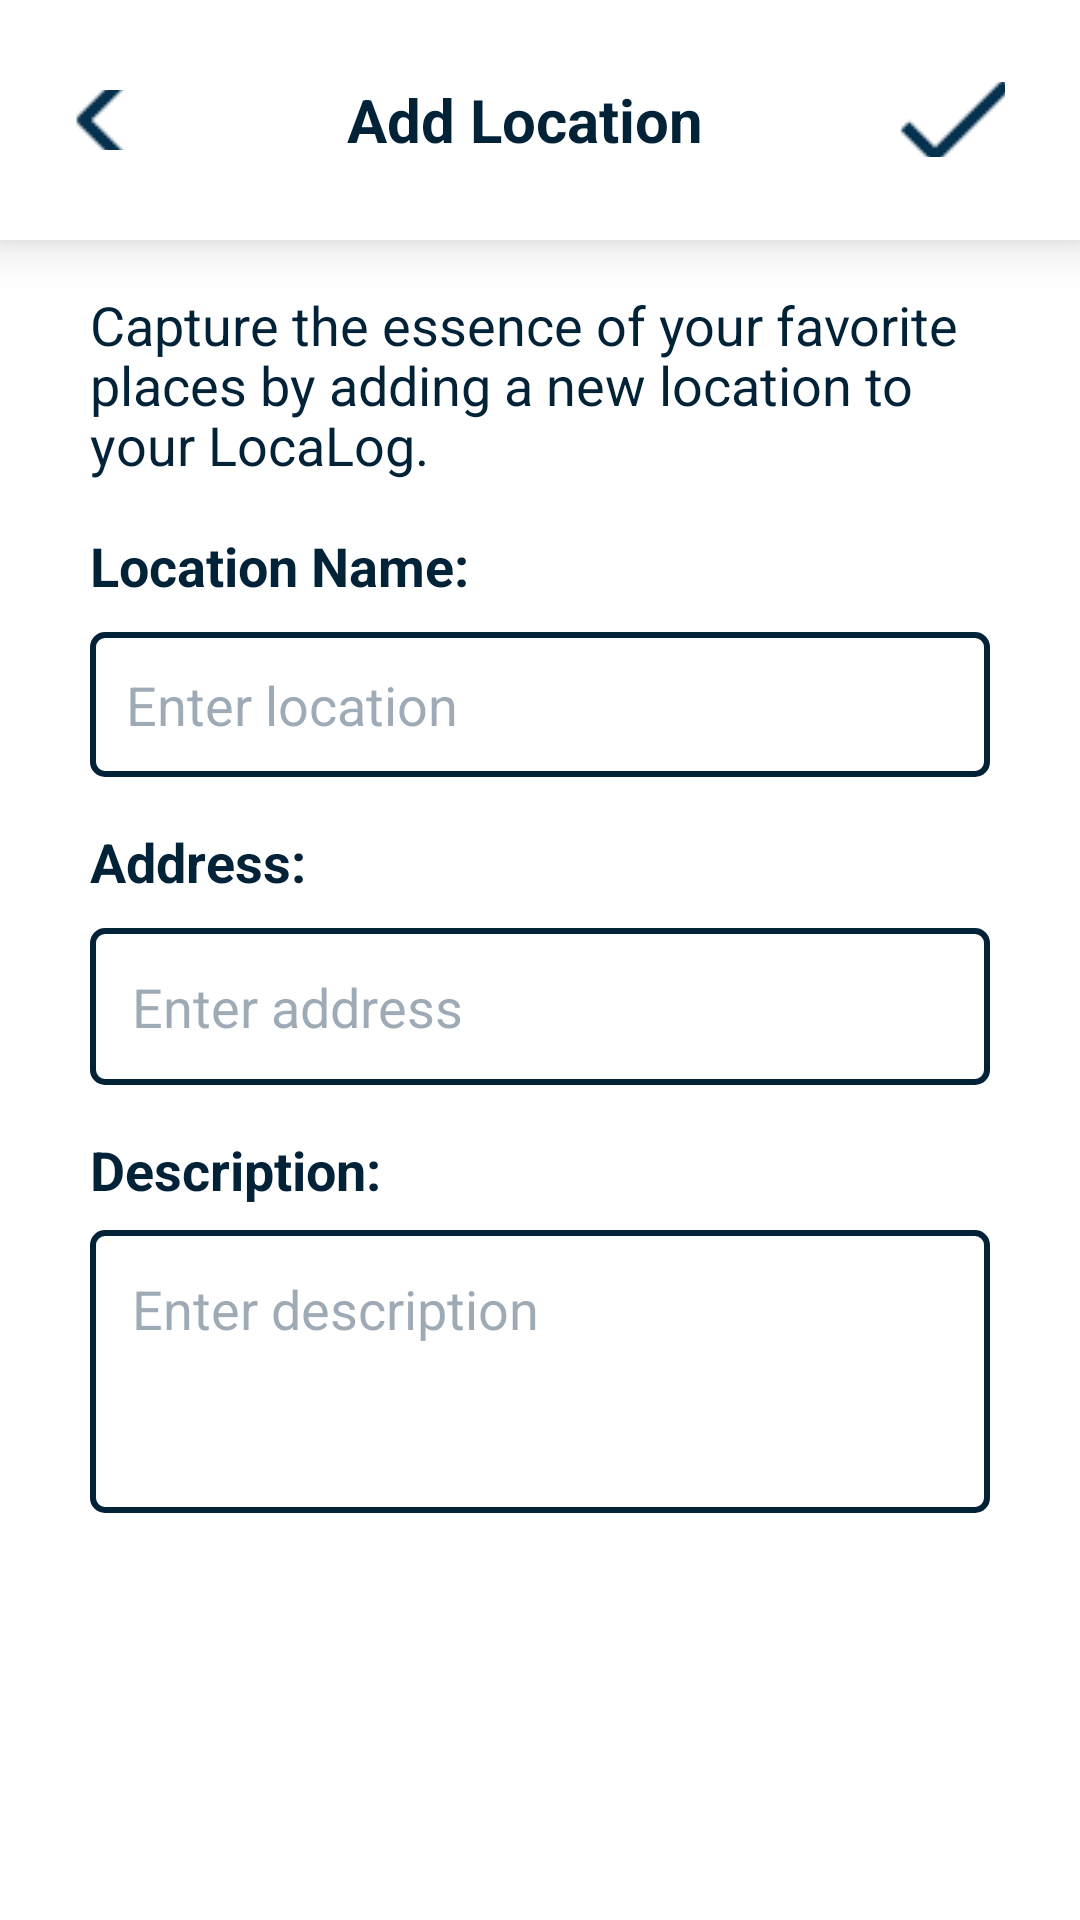

Icons on this 1080w x 1920h Android screen, each with its box as (x1, y1, x2, y2):
back: (76, 90, 124, 150)
check mark: (900, 82, 1005, 157)
